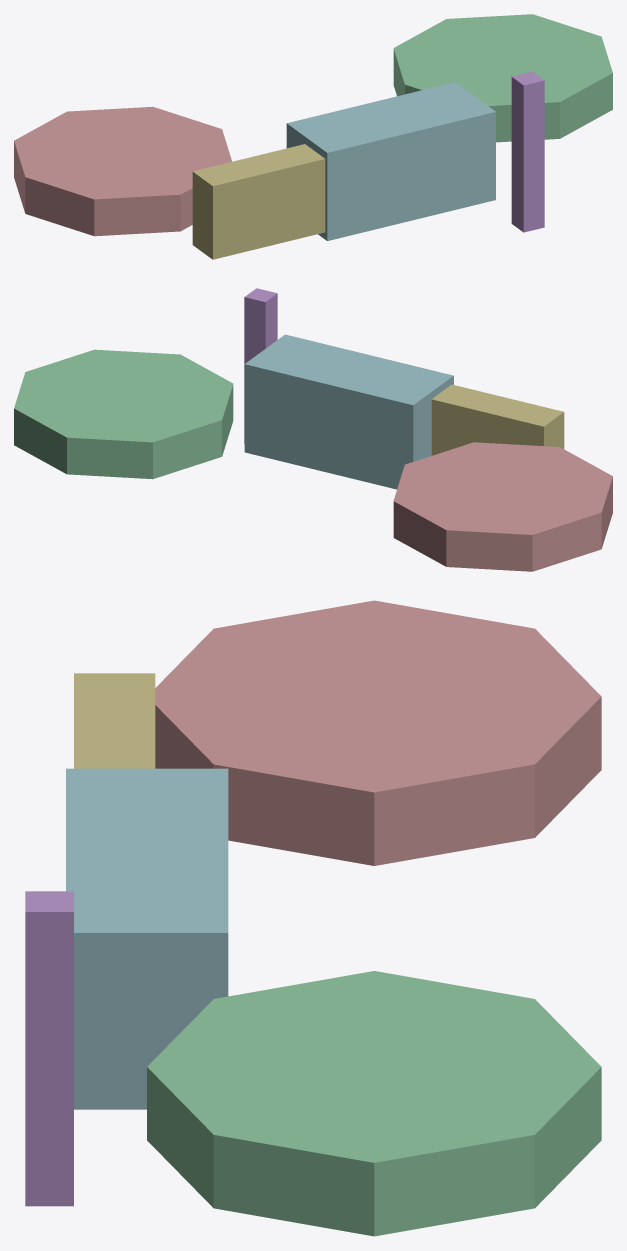
3 views of the same model, one above another, from view 1: azimuth 30°, elevation 25°; view 2: azimuth 150°, elevation 25°; view 3: azimuth 270°, elevation 25° (orthographic). The views are drawn at different scales.
Parts seen in each view (by area): view 1: part0, part4, part3, part1, part2; view 2: part4, part3, part0, part1, part2; view 3: part3, part4, part0, part2, part1.
Part boxes in pixels (bbox=[...]): part0: bbox=[286, 82, 495, 240]; part4: bbox=[14, 106, 231, 236]; part3: bbox=[393, 14, 612, 142]; part1: bbox=[192, 144, 325, 259]; part2: bbox=[511, 71, 544, 232]; part4: bbox=[393, 442, 612, 571]; part3: bbox=[14, 349, 233, 479]; part0: bbox=[244, 334, 453, 489]; part1: bbox=[431, 384, 564, 455]; part2: bbox=[244, 288, 277, 443]; part3: bbox=[147, 971, 601, 1236]; part4: bbox=[155, 600, 601, 865]; part0: bbox=[66, 768, 228, 1109]; part2: bbox=[25, 891, 73, 1206]; part1: bbox=[74, 673, 155, 768].
Bounding box in the file's own units: 4.1 × 1 × 1.78.
